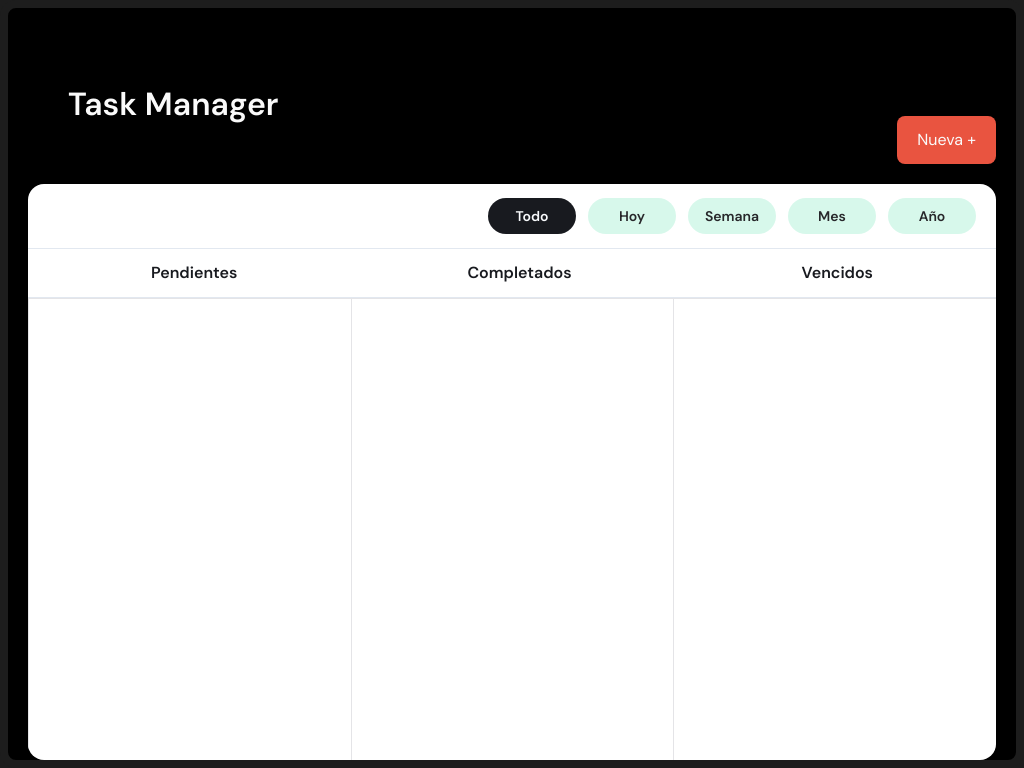
Scenario: App › Tasks CRUD › Create › should add task to task list
Click the button "Nueva +" at (947, 140), box x1=897 y1=116 x2=996 y2=164
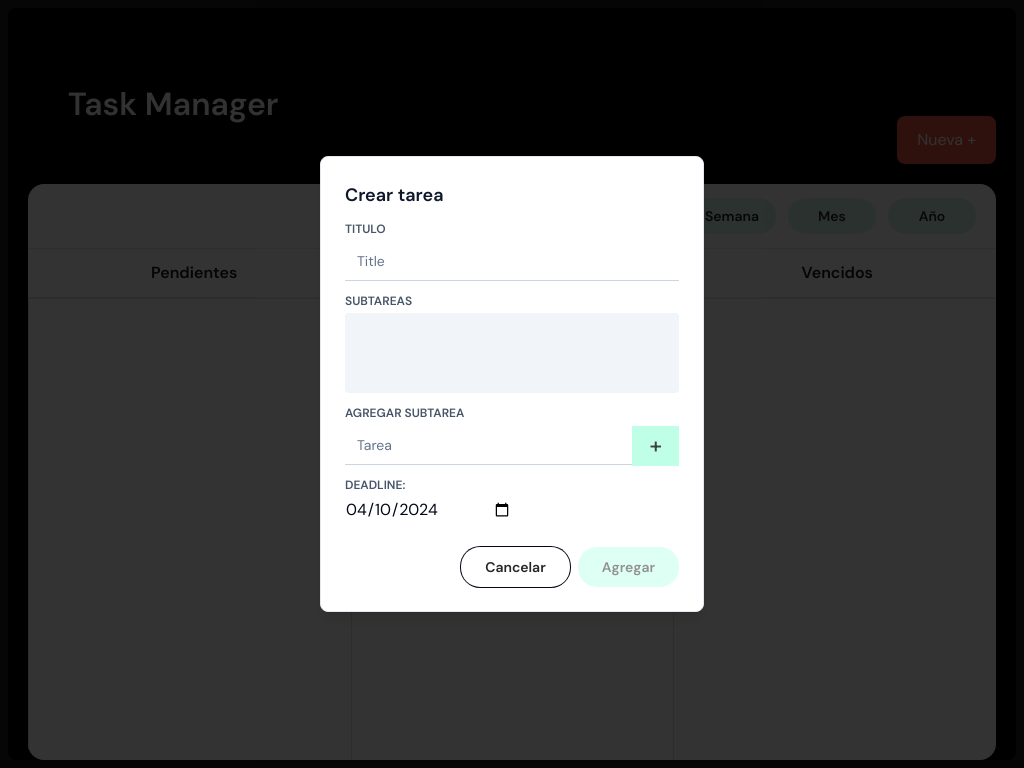
Type "Titulo" into the field with placeholder "Title" at (512, 261), box x1=345 y1=241 x2=679 y2=281
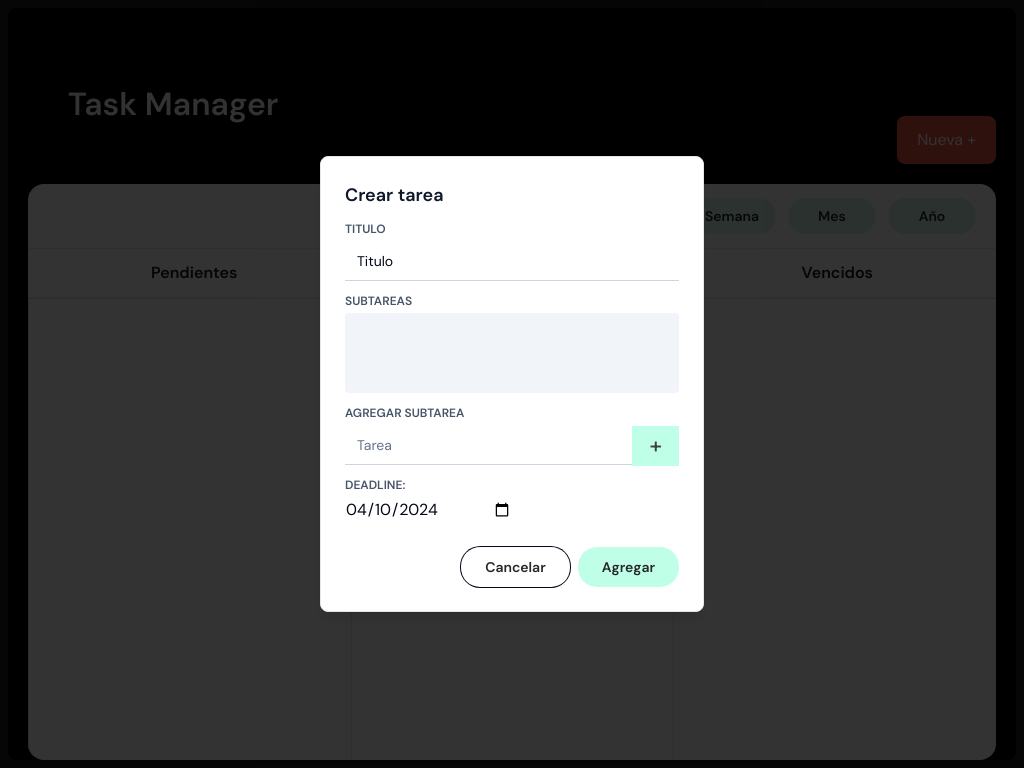
Type "Nueva Tarea" into the field with placeholder "TAREA" at (489, 445), box x1=345 y1=425 x2=632 y2=465
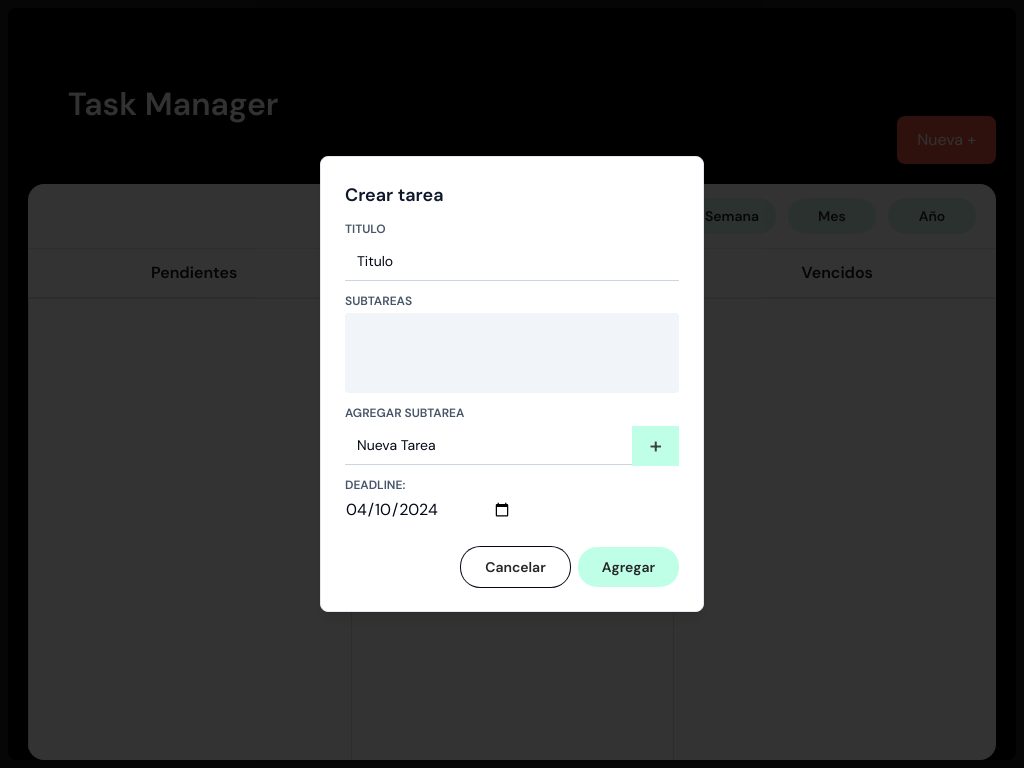
Click the button "+" at (656, 446), box x1=632 y1=426 x2=679 y2=466
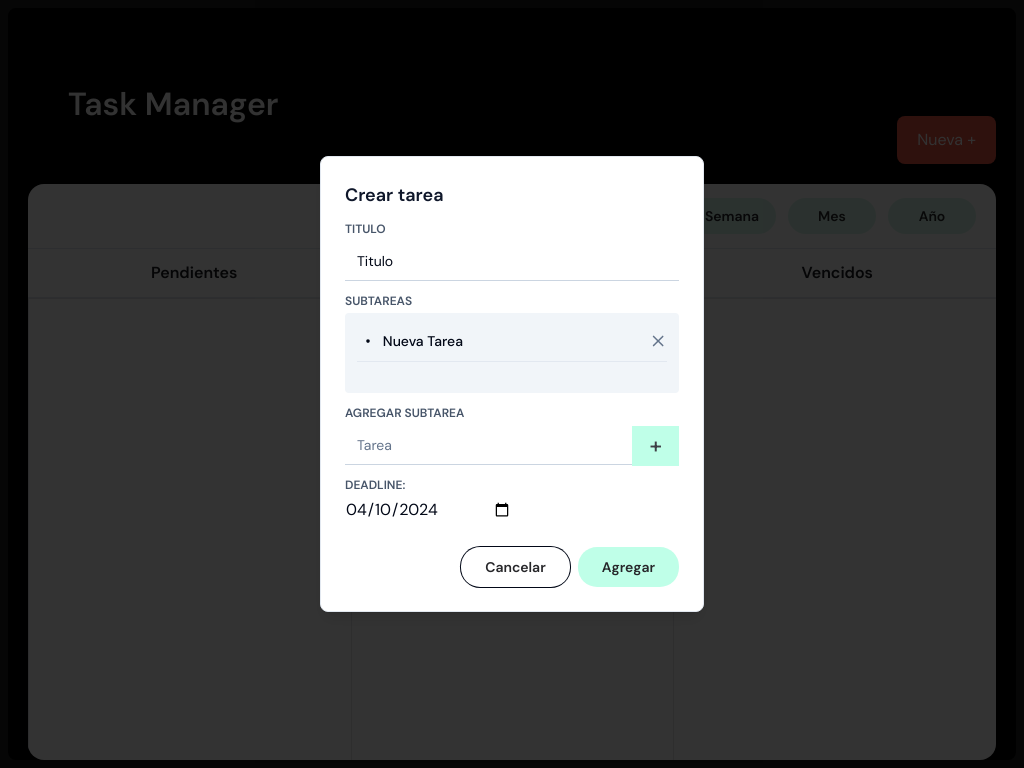
Type "2024-03-13" into the date field with test id "calendar" at (428, 510), box x1=345 y1=497 x2=512 y2=523
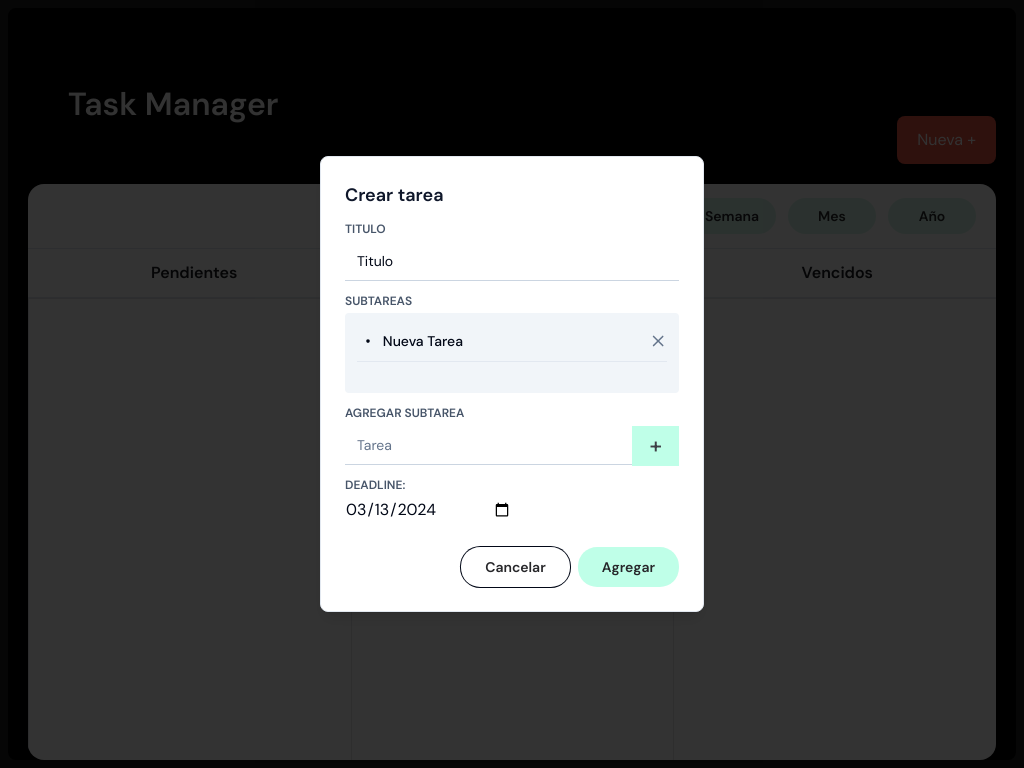
Click the button "Agregar" at (628, 567), box x1=578 y1=547 x2=679 y2=587
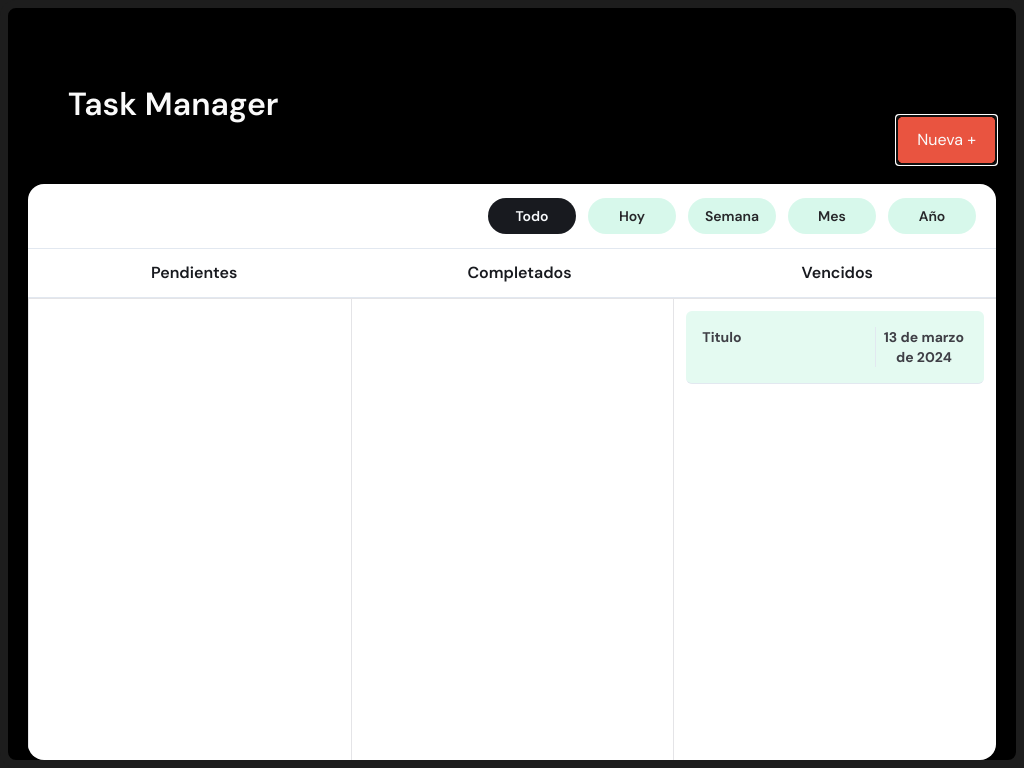
Result: the number of elements with test id "task-card" is 1 at x1=686 y1=327 x2=984 y2=367
